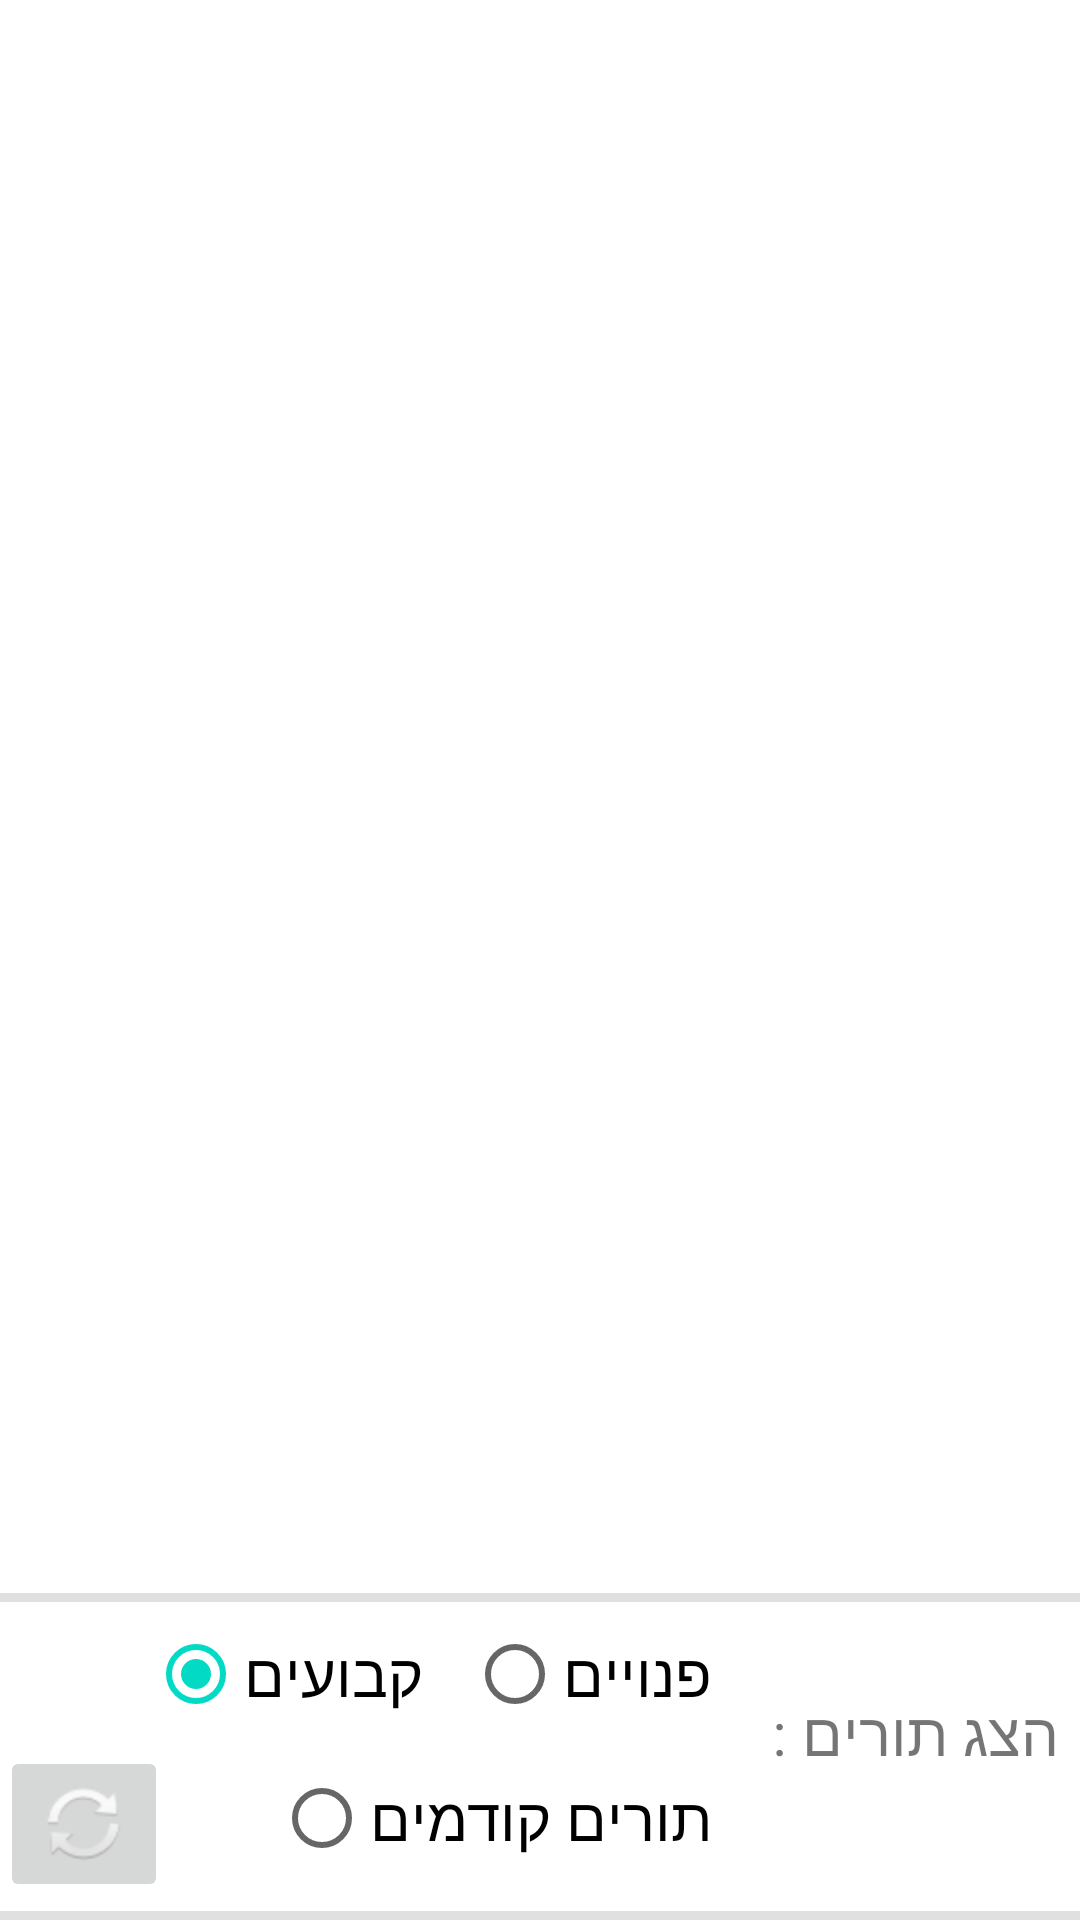

Named icons in this screenshot (1080w x 1920h) and their bounding boxes, (x1, y1, x2, y2):
popup sync: (12, 1764, 156, 1884)
